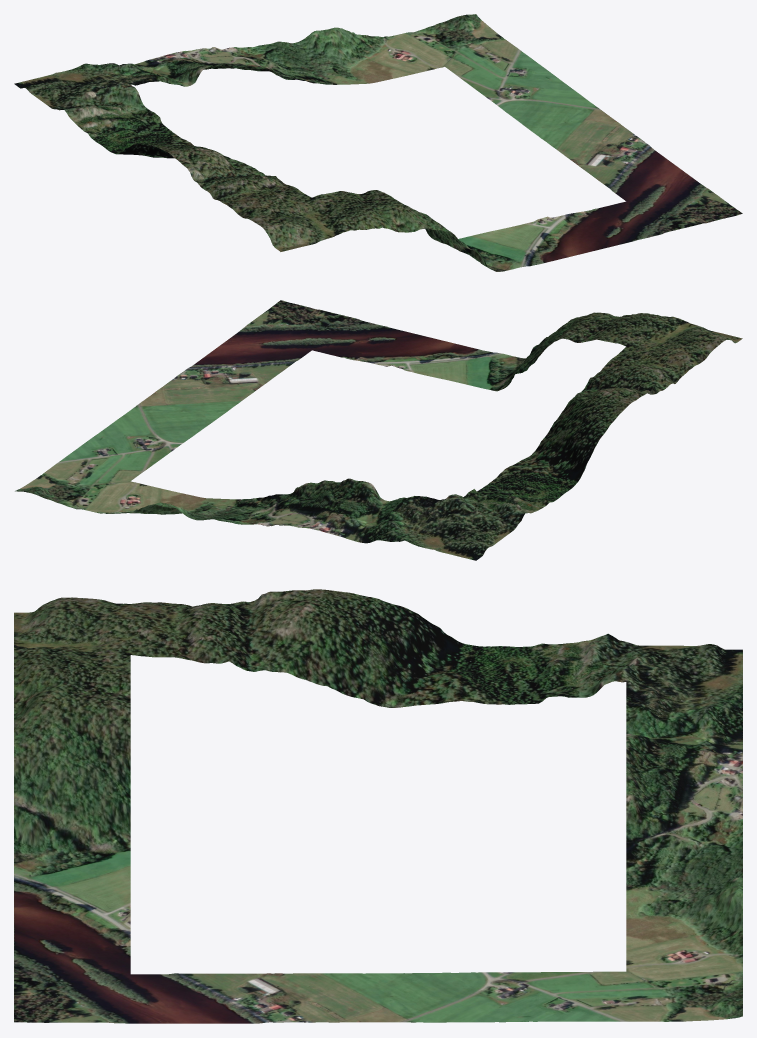
Rendered from context_terrain.glb.
3 renders of one model, top to bottom at view 1: azimuth 30°, elevation 25°; view 2: azimuth 150°, elevation 25°; view 3: azimuth 270°, elevation 25°, orthographic. The views are drawn at different scales.
Parts seen in each view (by area): view 1: web_context_terrain; view 2: web_context_terrain; view 3: web_context_terrain.
Boxes of the visible parts, x1=… form: web_context_terrain: x1=14, y1=14, x2=742, y2=271; web_context_terrain: x1=15, y1=300, x2=742, y2=560; web_context_terrain: x1=14, y1=589, x2=742, y2=1023.
Size of the model in its own units: 1000 by 193 by 1000.
1 material, 1 textured.
